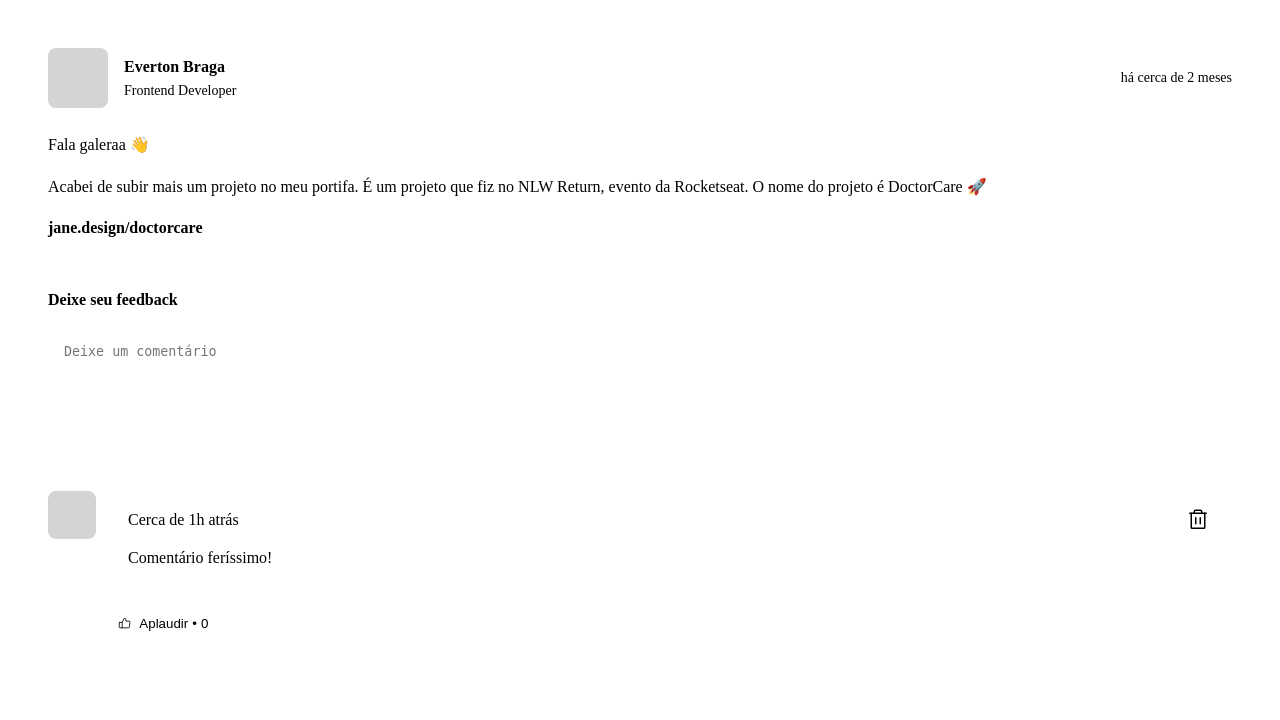
Test: <Post /> › should check if the publish button click is disabled if textarea content is empty
The width and height of the screenshot is (1280, 720).
Focus the text box with placeholder "Deixe um comentário" at (656, 391), box [48,327,1264,455]
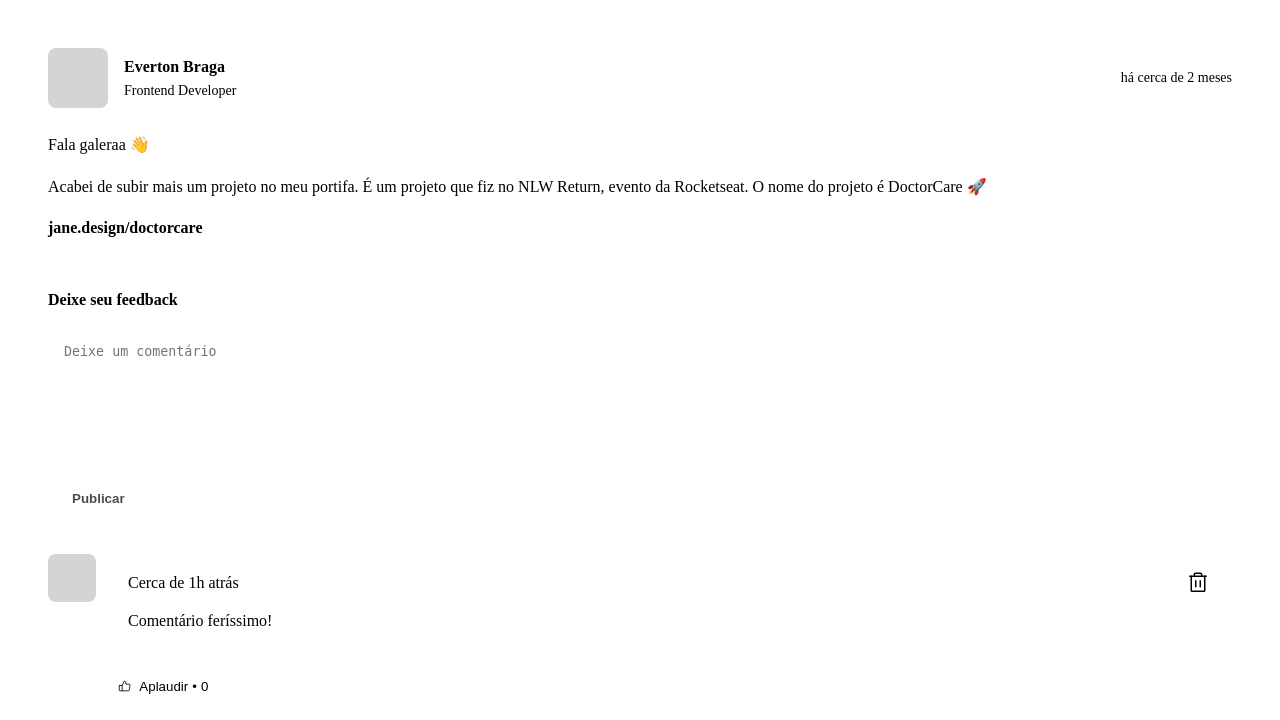
Check: the button "Publicar" is disabled, box [48,475,149,522]
